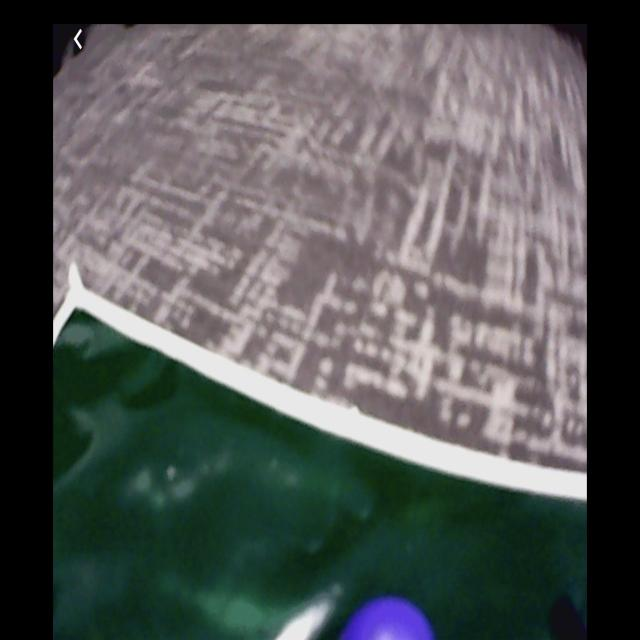ball: (340, 595, 435, 640)
